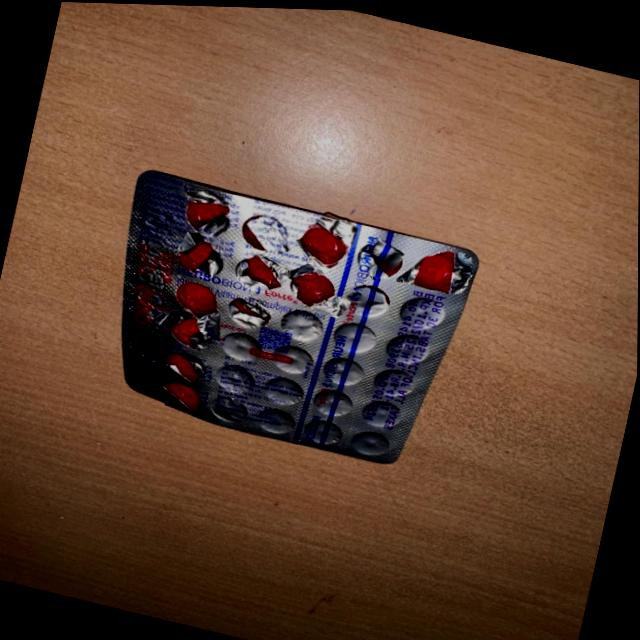medicine: (101, 149, 509, 486)
